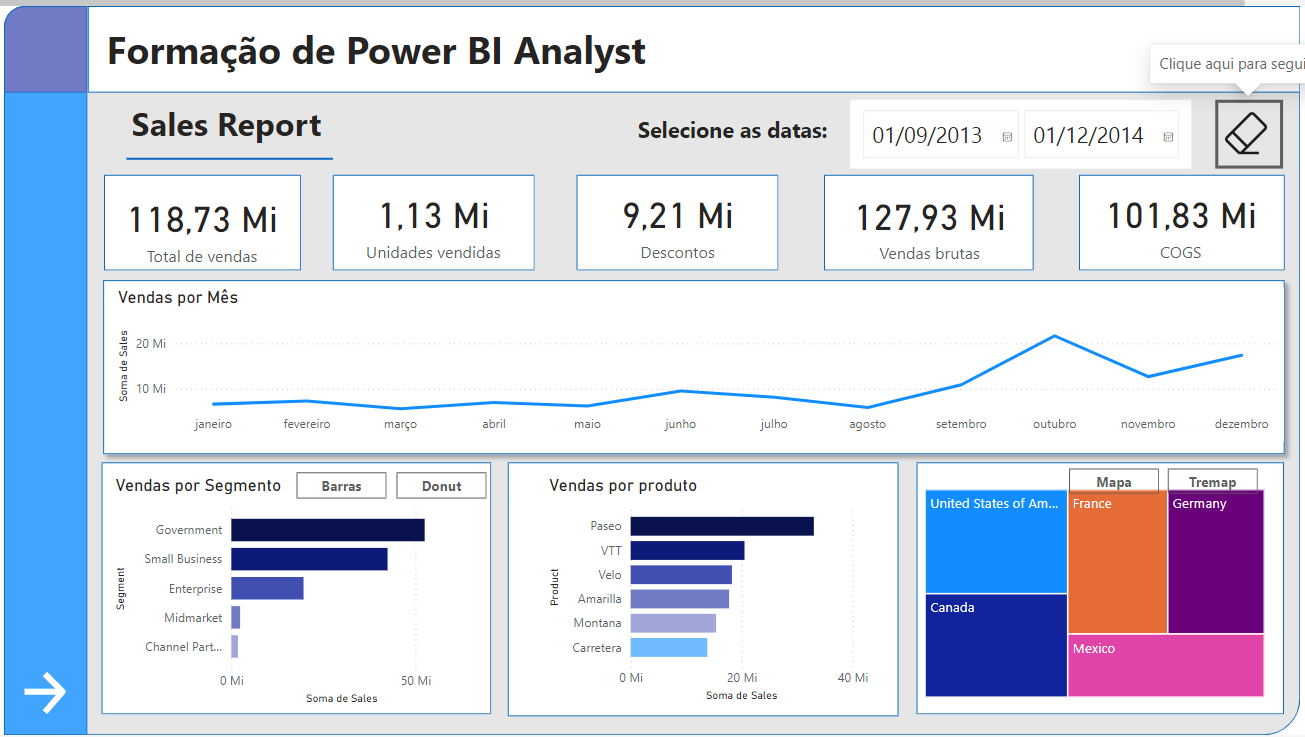

What the dashboard file says about the page in this screenshot:
{"tool":"powerbi","page":{"name":"Página 1","canvas":[1280,720],"ordinal":0},"visuals":[{"type":"group","id":"g1","title":"Fundo + título","box":[0,0,1280.6,720.2],"z":0},{"type":"shape","box":[0.3,0,1280.3,720.2],"z":0,"group":"g1"},{"type":"textbox","box":[120.8,88.4,220,61.4],"z":0,"group":"g3"},{"type":"slicer","fields":{"Values":["financials.Date"]},"box":[836,92,337,68],"z":0,"group":"g4"},{"type":"shape","box":[98.6,167.1,194.5,94.6],"z":0,"group":"g2"},{"type":"shape","box":[89,262,1185,190],"z":0,"group":"g5"},{"type":"clusteredBarChart","title":"Vendas por Segmento","fields":{"Y":["Sum(financials. Sales)"],"Category":["financials.Segment"]},"box":[105,463,358,232],"z":0,"group":"g6"},{"type":"shape","box":[0.3,0,82.6,720.2],"z":1000,"group":"g1"},{"type":"image","title":"borracha","box":[1197.1,100,60,51.4],"z":1000,"group":"g4"},{"type":"shape","box":[121.4,114.1,204.2,72.1],"z":1000,"group":"g3"},{"type":"group","id":"g2","title":"Cards","box":[98.6,167.1,1165.9,94.6],"z":1000},{"type":"shape","box":[810.2,167.1,207.1,94.6],"z":1000,"group":"g2"},{"type":"shape","box":[96,451,385,249],"z":1000,"group":"g5"},{"type":"treemap","title":"Tremap","fields":{"Group":["financials.Country"],"Values":["Sum(financials. Sales)"]},"box":[905,473,345,215],"z":1000,"group":"g7"},{"type":"actionButton","title":"BttnTremap","box":[1150,457,89,25],"z":1250,"group":"g7"},{"type":"actionButton","title":"BttnDonut","box":[388,461,89,26],"z":1250,"group":"g6"},{"type":"actionButton","title":"BttnMapa","box":[1052,457,89,25],"z":1500,"group":"g7"},{"type":"actionButton","title":"BtnnBarras","box":[290,461,89,26],"z":1500,"group":"g6"},{"type":"shape","box":[0,0,82.6,85.6],"z":2000,"group":"g1"},{"type":"group","id":"g3","title":"Sales report","box":[120.8,88.4,220,97.8],"z":2000},{"type":"actionButton","box":[1197,92,67,68],"z":2000,"group":"g4"},{"type":"shape","box":[324.5,167.1,199.5,94.6],"z":2000,"group":"g2"},{"type":"shape","box":[498,451,386,251],"z":2000,"group":"g5"},{"type":"shape","box":[82.8,0,1197.7,85.6],"z":3000,"group":"g1"},{"type":"group","id":"g4","title":"Segmentador de data","box":[621.4,92,642.6,68],"z":3000},{"type":"textbox","box":[621.4,101.4,214.3,50],"z":3000,"group":"g4"},{"type":"shape","box":[565.5,167.1,199.5,94.6],"z":3000,"group":"g2"},{"type":"shape","box":[901,451,363,249],"z":3000,"group":"g5"},{"type":"textbox","box":[95.7,12.9,762.9,61.4],"z":4000,"group":"g1"},{"type":"shape","box":[1061.2,167.1,203.3,94.6],"z":4000,"group":"g2"},{"type":"group","id":"g5","title":"Visuais","box":[89,262,1185,440],"z":4000},{"type":"lineChart","title":"Vendas por Mês","fields":{"Y":["Sum(financials. Sales)"],"Category":["financials.Date.Variation.Hierarquia de datas.Mês"]},"box":[107.6,277.7,1157.1,152.9],"z":4000,"group":"g5"},{"type":"actionButton","box":[14,653,62,51],"z":4500,"group":"g1"},{"type":"card","title":"Vendas brutas","fields":{"Values":["Sum(financials.Gross Sales)"]},"box":[822.8,176.3,181.8,80.9],"z":5000,"group":"g2"},{"type":"clusteredBarChart","title":"Vendas por produto","fields":{"Y":["Sum(financials. Sales)"],"Category":["financials.Product"]},"box":[533,463,325,229],"z":5000,"group":"g5"},{"type":"card","title":"Descontos","fields":{"Values":["Sum(financials.Discounts)"]},"box":[573.7,171.8,182.7,85.5],"z":6000,"group":"g2"},{"type":"group","id":"g6","title":"Vendas por segmento","box":[101.9,460.6,375.1,237.1],"z":6000,"group":"g5"},{"type":"card","title":"Unidades vendidas","fields":{"Values":["Sum(financials.Units Sold)"]},"box":[333.7,171.8,181.8,85.5],"z":7000,"group":"g2"},{"type":"group","id":"g7","title":"Vendas por país","box":[905,457,348.3,240.7],"z":7000,"group":"g5"},{"type":"card","title":"COGS","fields":{"Values":["Sum(financials.COGS)"]},"box":[1071.8,171.8,181.8,85.5],"z":8000,"group":"g2"},{"type":"card","fields":{"Values":["Sum(financials. Sales)"]},"box":[104.3,178.6,181.7,80],"z":9000,"group":"g2"}]}

Visuals, with their boxes on the page's 1280x720 design canvas (x1, y1, x2, y2). These are canvas units, not pixel positions in the 1305x737 screenshot, which may show the page scaled, cropped or inside an application window:
"Fundo + título" group: <region>0, 0, 1281, 720</region>
shape: <region>0, 0, 1281, 720</region>
textbox: <region>121, 88, 341, 150</region>
slicer - financials.Date: <region>836, 92, 1173, 160</region>
shape: <region>99, 167, 293, 262</region>
shape: <region>89, 262, 1274, 452</region>
"Vendas por Segmento" clusteredBarChart: <region>105, 463, 463, 695</region>
shape: <region>0, 0, 83, 720</region>
"borracha" image: <region>1197, 100, 1257, 151</region>
shape: <region>121, 114, 326, 186</region>
"Cards" group: <region>99, 167, 1264, 262</region>
shape: <region>810, 167, 1017, 262</region>
shape: <region>96, 451, 481, 700</region>
"Tremap" treemap: <region>905, 473, 1250, 688</region>
"BttnTremap" actionButton: <region>1150, 457, 1239, 482</region>
"BttnDonut" actionButton: <region>388, 461, 477, 487</region>
"BttnMapa" actionButton: <region>1052, 457, 1141, 482</region>
"BtnnBarras" actionButton: <region>290, 461, 379, 487</region>
shape: <region>0, 0, 83, 86</region>
"Sales report" group: <region>121, 88, 341, 186</region>
actionButton: <region>1197, 92, 1264, 160</region>
shape: <region>324, 167, 524, 262</region>
shape: <region>498, 451, 884, 702</region>
shape: <region>83, 0, 1280, 86</region>
"Segmentador de data" group: <region>621, 92, 1264, 160</region>
textbox: <region>621, 101, 836, 151</region>
shape: <region>566, 167, 765, 262</region>
shape: <region>901, 451, 1264, 700</region>
textbox: <region>96, 13, 859, 74</region>
shape: <region>1061, 167, 1264, 262</region>
"Visuais" group: <region>89, 262, 1274, 702</region>
"Vendas por Mês" lineChart: <region>108, 278, 1265, 431</region>
actionButton: <region>14, 653, 76, 704</region>
"Vendas brutas" card: <region>823, 176, 1005, 257</region>
"Vendas por produto" clusteredBarChart: <region>533, 463, 858, 692</region>
"Descontos" card: <region>574, 172, 756, 257</region>
"Vendas por segmento" group: <region>102, 461, 477, 698</region>
"Unidades vendidas" card: <region>334, 172, 516, 257</region>
"Vendas por país" group: <region>905, 457, 1253, 698</region>
"COGS" card: <region>1072, 172, 1254, 257</region>
card - Sum(financials. Sales): <region>104, 179, 286, 259</region>
